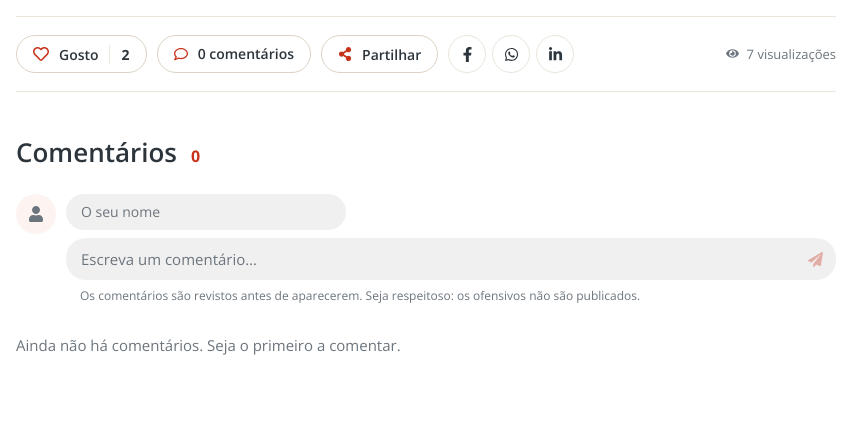
Test case: Interacoes (gostos e comentários no site) › comentários com HTML aparecem como texto (nunca executam)
Expected: the text "7 visualizações" is shown, left=726, top=44, right=836, bottom=64
Type "Visitante" into the field labelled "nome" at (206, 212), box left=66, top=194, right=346, bottom=230
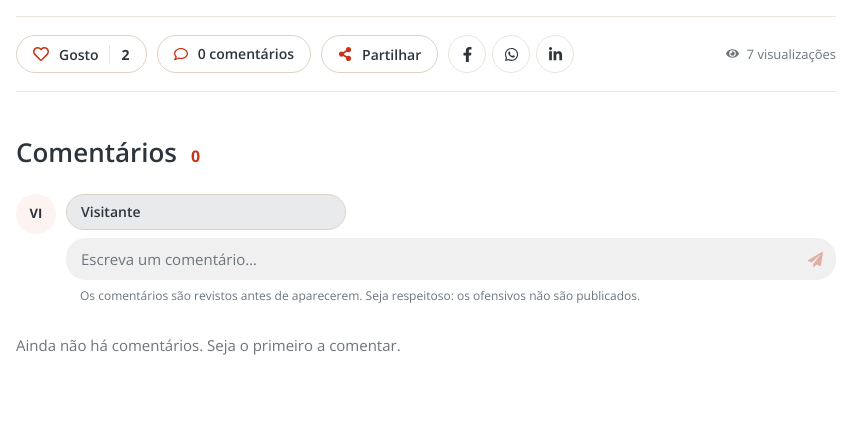
Type "<img src=x onerror=alert(1)>" into the text box labelled "comentário" at (438, 259), box left=81, top=243, right=795, bottom=275
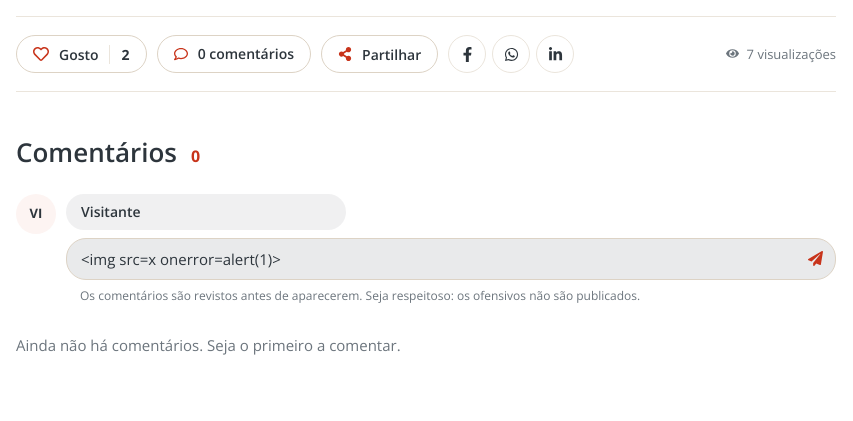
Click the button named "Publicar comentário" at (815, 259), box left=799, top=243, right=831, bottom=275
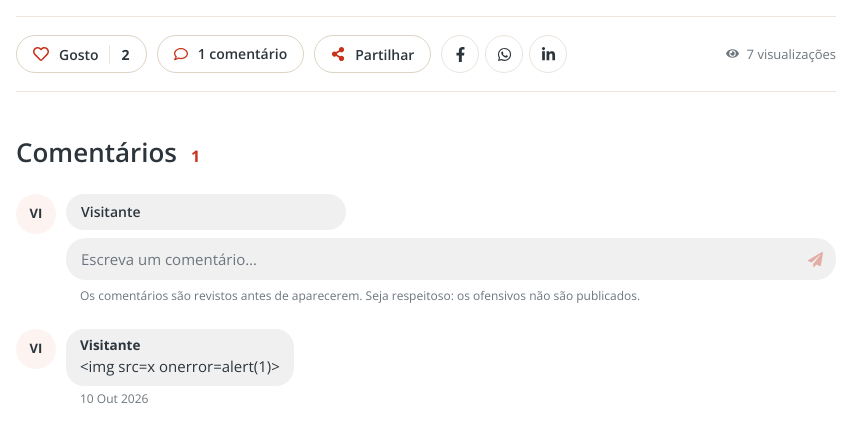
Expected: the text "<img src=x onerror=alert(1)>" is shown, left=80, top=356, right=280, bottom=377
